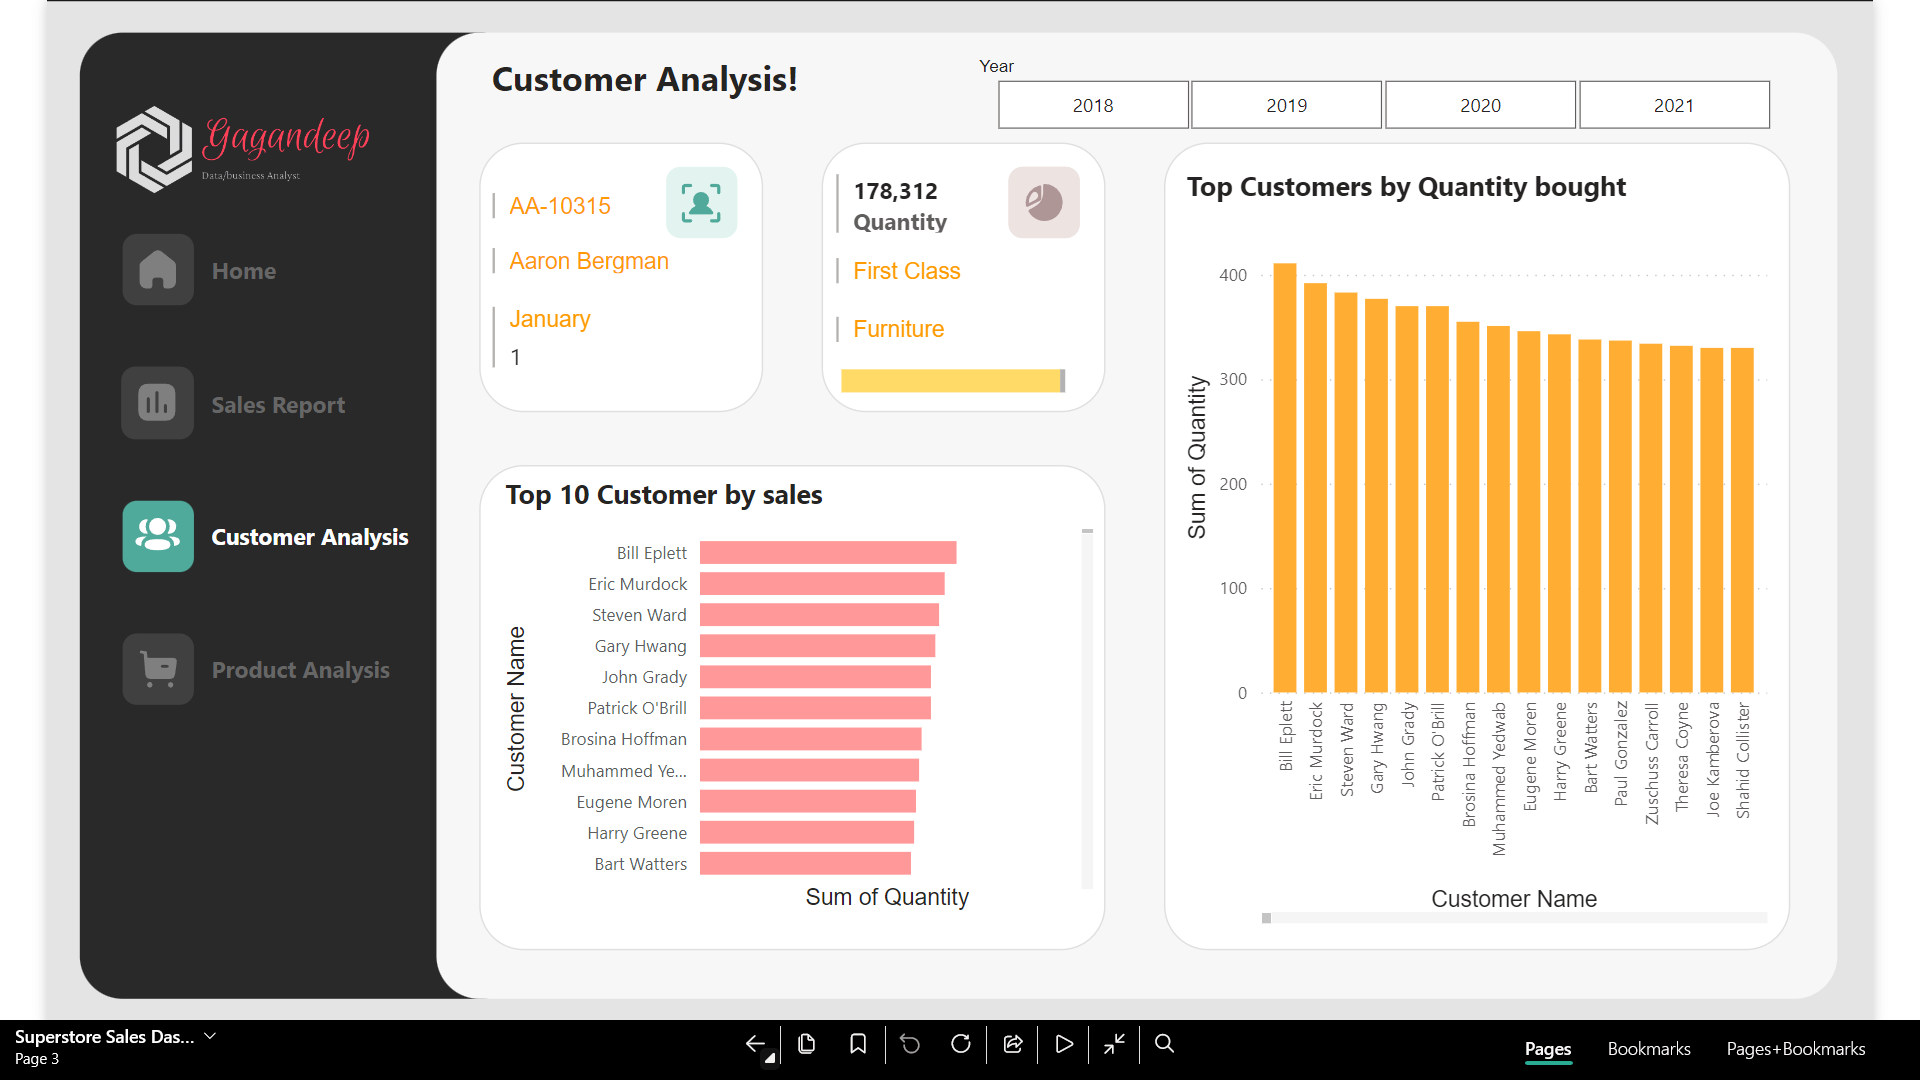

What the dashboard file says about the page in this screenshot:
{"tool":"powerbi","page":{"name":"Page 3","canvas":[1280,720],"ordinal":2},"visuals":[{"type":"textbox","box":[307,33.3,499.5,69.5],"z":0},{"type":"actionButton","box":[111.5,168,99.9,40.5],"z":1000},{"type":"actionButton","box":[111.5,262.1,149.1,40.5],"z":2000},{"type":"actionButton","box":[111.5,354.8,149.1,40.5],"z":3000},{"type":"actionButton","box":[111.5,447.4,149.1,40.5],"z":4000},{"type":"image","box":[13.3,7.2,247.2,142.3],"z":5000},{"type":"clusteredBarChart","title":" Top 10 Customer by sales ","fields":{"Category":["superstore.Customer Name"],"Y":["Sum(superstore.Quantity)"]},"box":[316,332.9,422.1,309.9],"z":6000},{"type":"slicer","fields":{"Values":["superstore.Year"]},"box":[640.4,33.8,591,62.7],"z":7000},{"type":"multiRowCard","fields":{"Values":["superstore.Customer Name"]},"box":[307.5,168.8,160.4,41],"z":8000},{"type":"multiRowCard","fields":{"Values":["superstore.Customer ID"]},"box":[307.5,130.3,119.4,37.4],"z":9000},{"type":"multiRowCard","fields":{"Values":["superstore.Order Date.Variation.Date Hierarchy.Month","superstore.Order Date.Variation.Date Hierarchy.Day"]},"box":[307.5,209.8,142.3,51.9],"z":10000},{"type":"multiRowCard","fields":{"Values":["Sum(superstore.Quantity)"]},"box":[548.7,117,143.5,50.7],"z":11000},{"type":"multiRowCard","fields":{"Values":["superstore.Ship Mode"]},"box":[548.7,176.1,180.9,33.8],"z":12000},{"type":"multiRowCard","fields":{"Values":["superstore.Category"]},"box":[548.7,217.1,180.9,38.6],"z":13000},{"type":"hundredPercentStackedBarChart","fields":{"Y":["superstore.Sales vs Target","Sum(superstore.Quantity)"]},"box":[548.7,224.3,172.5,78.4],"z":14000},{"type":"columnChart","title":"Top Customers by Quantity bought","fields":{"Category":["superstore.Customer Name"],"Y":["Sum(superstore.Quantity)"]},"box":[793.6,117,417.3,534.3],"z":15000}]}

Visuals, with their boxes on the page's 1280x720 design canvas (x1, y1, x2, y2). These are canvas units, not pixel positions in the 1920x1080 screenshot, which may show the page scaled, cropped or inside an application window:
textbox: crop(307, 33, 806, 103)
actionButton: crop(112, 168, 211, 208)
actionButton: crop(112, 262, 261, 303)
actionButton: crop(112, 355, 261, 395)
actionButton: crop(112, 447, 261, 488)
image: crop(13, 7, 260, 150)
" Top 10 Customer by sales " clusteredBarChart: crop(316, 333, 738, 643)
slicer - superstore.Year: crop(640, 34, 1231, 96)
multiRowCard - superstore.Customer Name: crop(308, 169, 468, 210)
multiRowCard - superstore.Customer ID: crop(308, 130, 427, 168)
multiRowCard - superstore.Order Date.Variation.Date Hierarchy.Month x superstore.Order Date.Variation.Date Hierarchy.Day: crop(308, 210, 450, 262)
multiRowCard - Sum(superstore.Quantity): crop(549, 117, 692, 168)
multiRowCard - superstore.Ship Mode: crop(549, 176, 730, 210)
multiRowCard - superstore.Category: crop(549, 217, 730, 256)
hundredPercentStackedBarChart - superstore.Sales vs Target x Sum(superstore.Quantity): crop(549, 224, 721, 303)
"Top Customers by Quantity bought" columnChart: crop(794, 117, 1211, 651)
